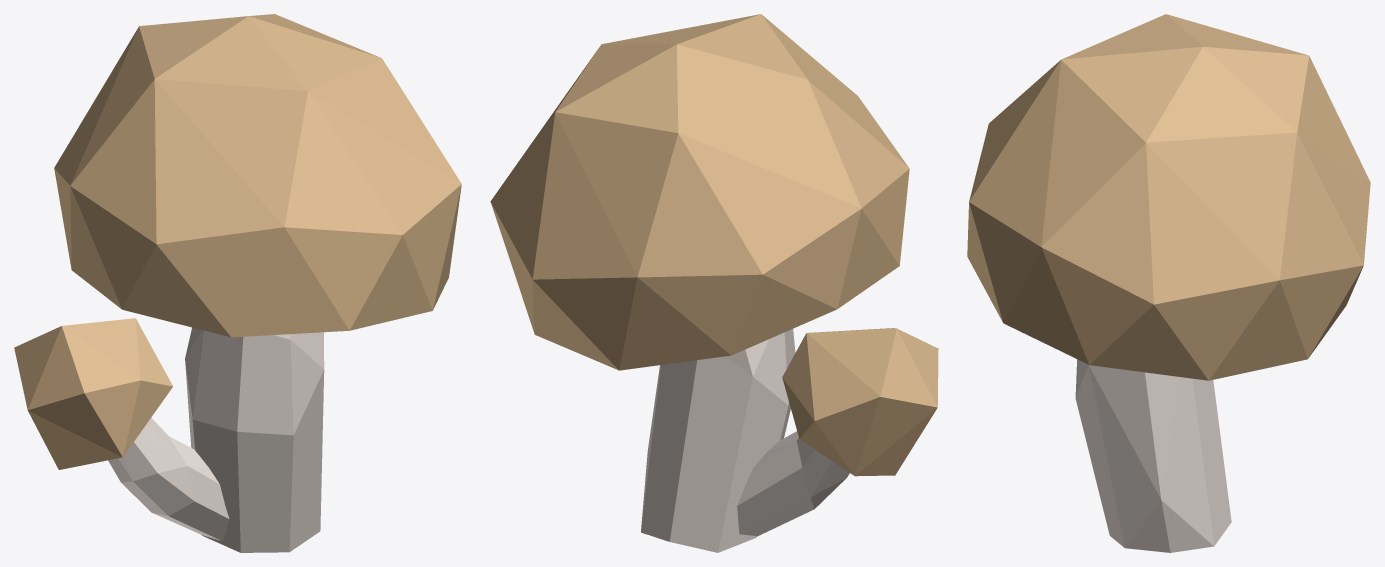
The model's file is ShroomB.fbx.
The picture shows the model from 3 angles, left to right: view 1: azimuth 30°, elevation 25°; view 2: azimuth 150°, elevation 25°; view 3: azimuth 270°, elevation 25°; orthographic projection.
Visible parts, largest first — view 1: shroomcap, stalk; view 2: shroomcap, stalk; view 3: shroomcap, stalk.
Boxes of the visible parts, x1=… form: shroomcap: x1=14, y1=14, x2=461, y2=469; stalk: x1=108, y1=327, x2=324, y2=552; shroomcap: x1=490, y1=14, x2=938, y2=476; stalk: x1=641, y1=329, x2=849, y2=552; shroomcap: x1=967, y1=14, x2=1370, y2=380; stalk: x1=1075, y1=359, x2=1231, y2=552.
Size of the model in its own units: 29.04 by 33.28 by 24.73.
